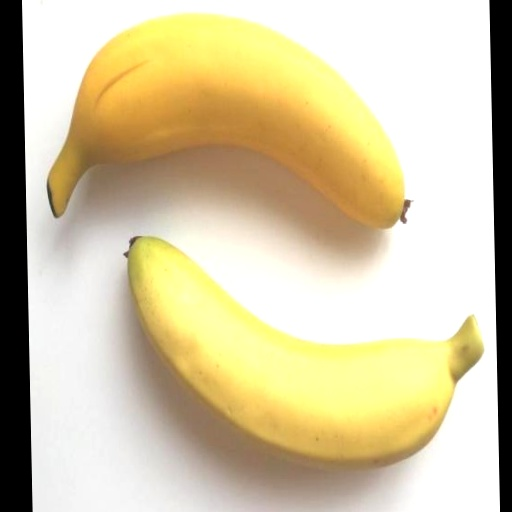fruit: (128, 237, 482, 466), (48, 14, 403, 227)
